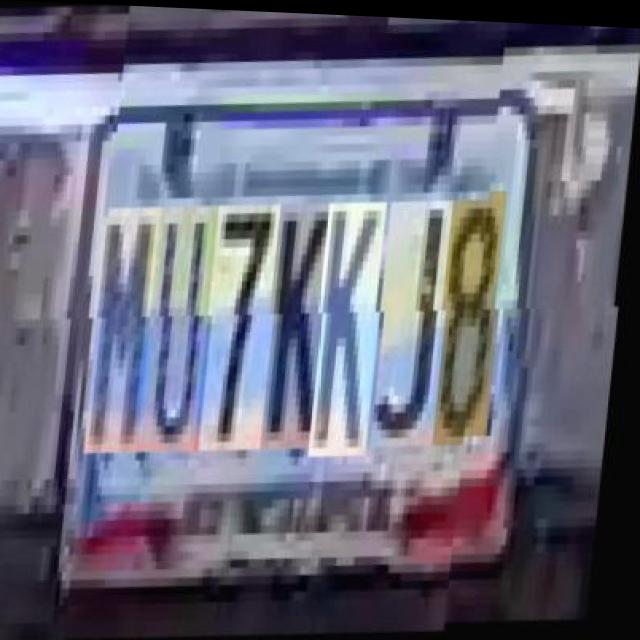7: (208, 204, 292, 455)
8: (442, 200, 516, 451)
j: (380, 200, 462, 453)
k: (318, 201, 396, 462), (270, 203, 348, 456)
m: (94, 205, 172, 458)
u: (150, 204, 228, 457)
